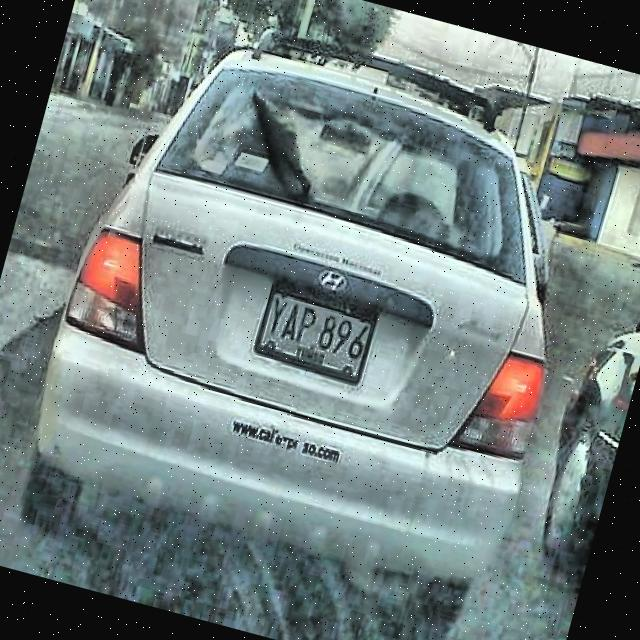6: (345, 323, 370, 361)
8: (315, 313, 338, 353)
9: (330, 317, 354, 356)
A: (277, 302, 300, 341)
P: (294, 305, 319, 343)
Y: (267, 297, 290, 335)
